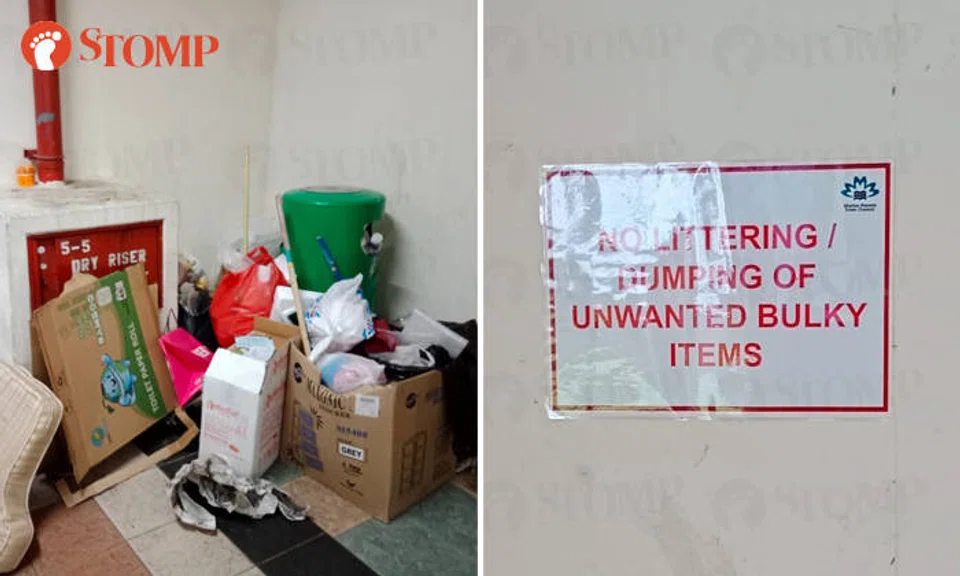bin_empty: (282, 187, 384, 305)
bulk_waste: (33, 264, 177, 483), (281, 348, 456, 521), (199, 336, 289, 478)
normal_waste: (168, 455, 306, 530), (210, 246, 287, 346), (159, 328, 212, 406)
